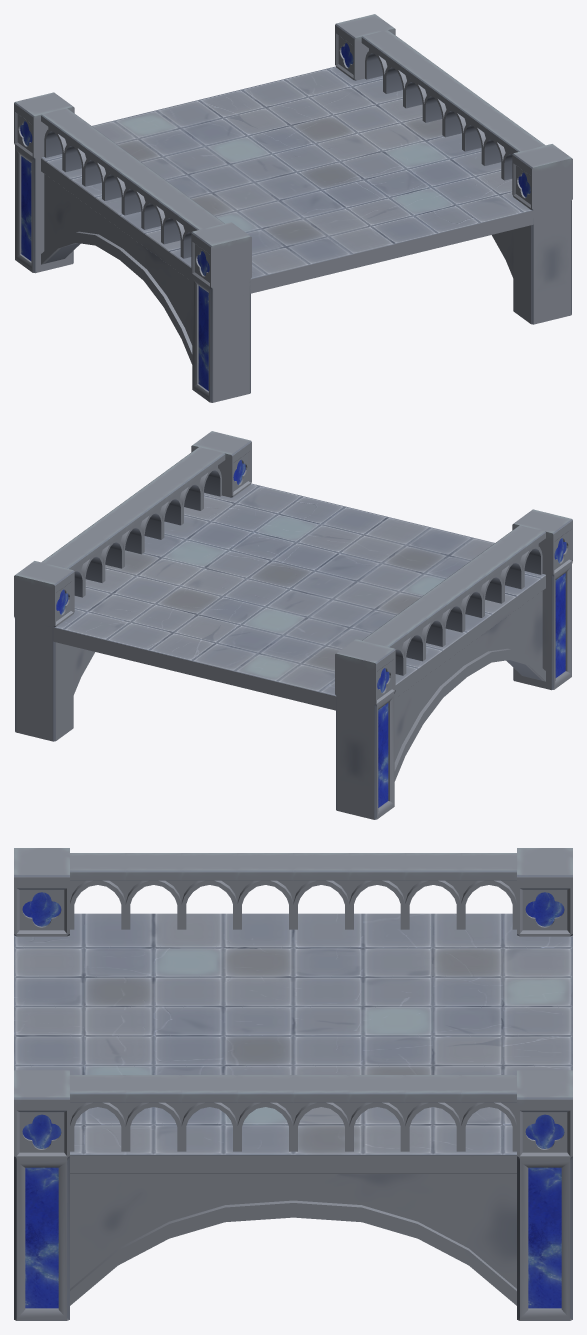
The model's file is Bridge_L_02.fbx.
3 views of the same model, one above another, from view 1: azimuth 30°, elevation 25°; view 2: azimuth 150°, elevation 25°; view 3: azimuth 270°, elevation 25° (orthographic). The views are drawn at different scales.
Parts seen in each view (by area): view 1: Bridge_L_02; view 2: Bridge_L_02; view 3: Bridge_L_02.
Boxes of the visible parts, x1,y1,x2,y2 form: Bridge_L_02: [14, 14, 572, 402]; Bridge_L_02: [14, 431, 572, 819]; Bridge_L_02: [14, 848, 572, 1320].
Bounding box in the file's own units: 1061 × 440 × 1000.
Materials: 1 (1 with a texture image).
